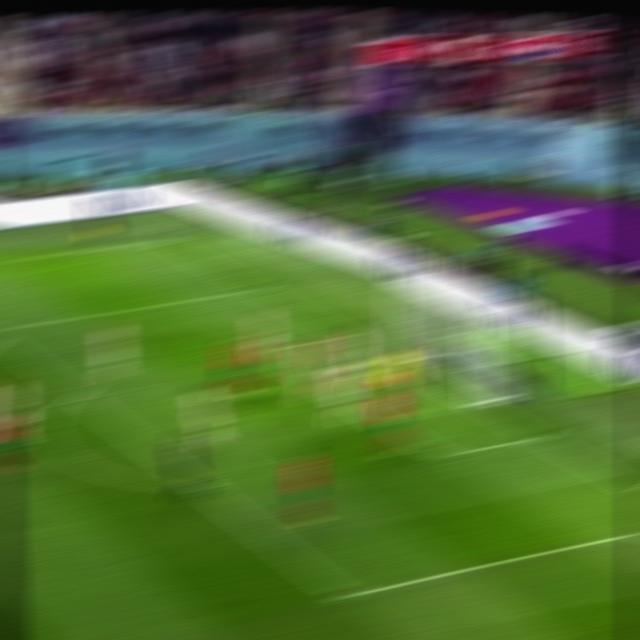bigarea_bottom_inner: (327, 580, 364, 612)
bigarea_top_outter: (243, 277, 273, 297)
bottom_arc_area_intersection: (186, 474, 221, 499)
corner: (146, 233, 180, 248)
smallarea_bottom_inner: (423, 440, 458, 470)
smallarea_bottom_outter: (523, 423, 557, 449)
smallarea_top_inner: (252, 343, 281, 360)
top_arc_area_intersection: (63, 382, 94, 404)
